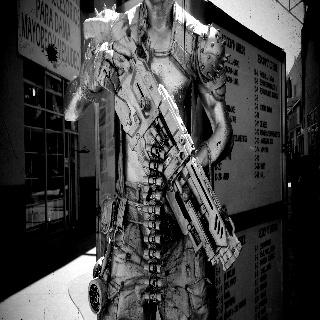rifle: (78, 8, 246, 271)
